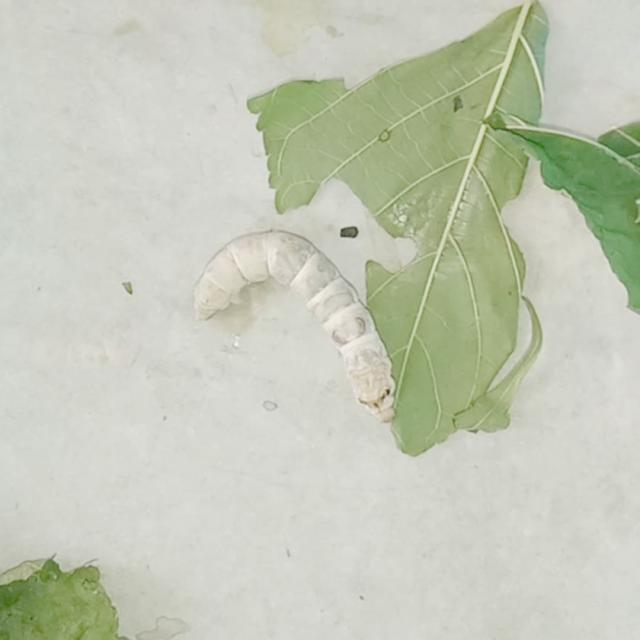Grasserie: (187, 199, 438, 451)
